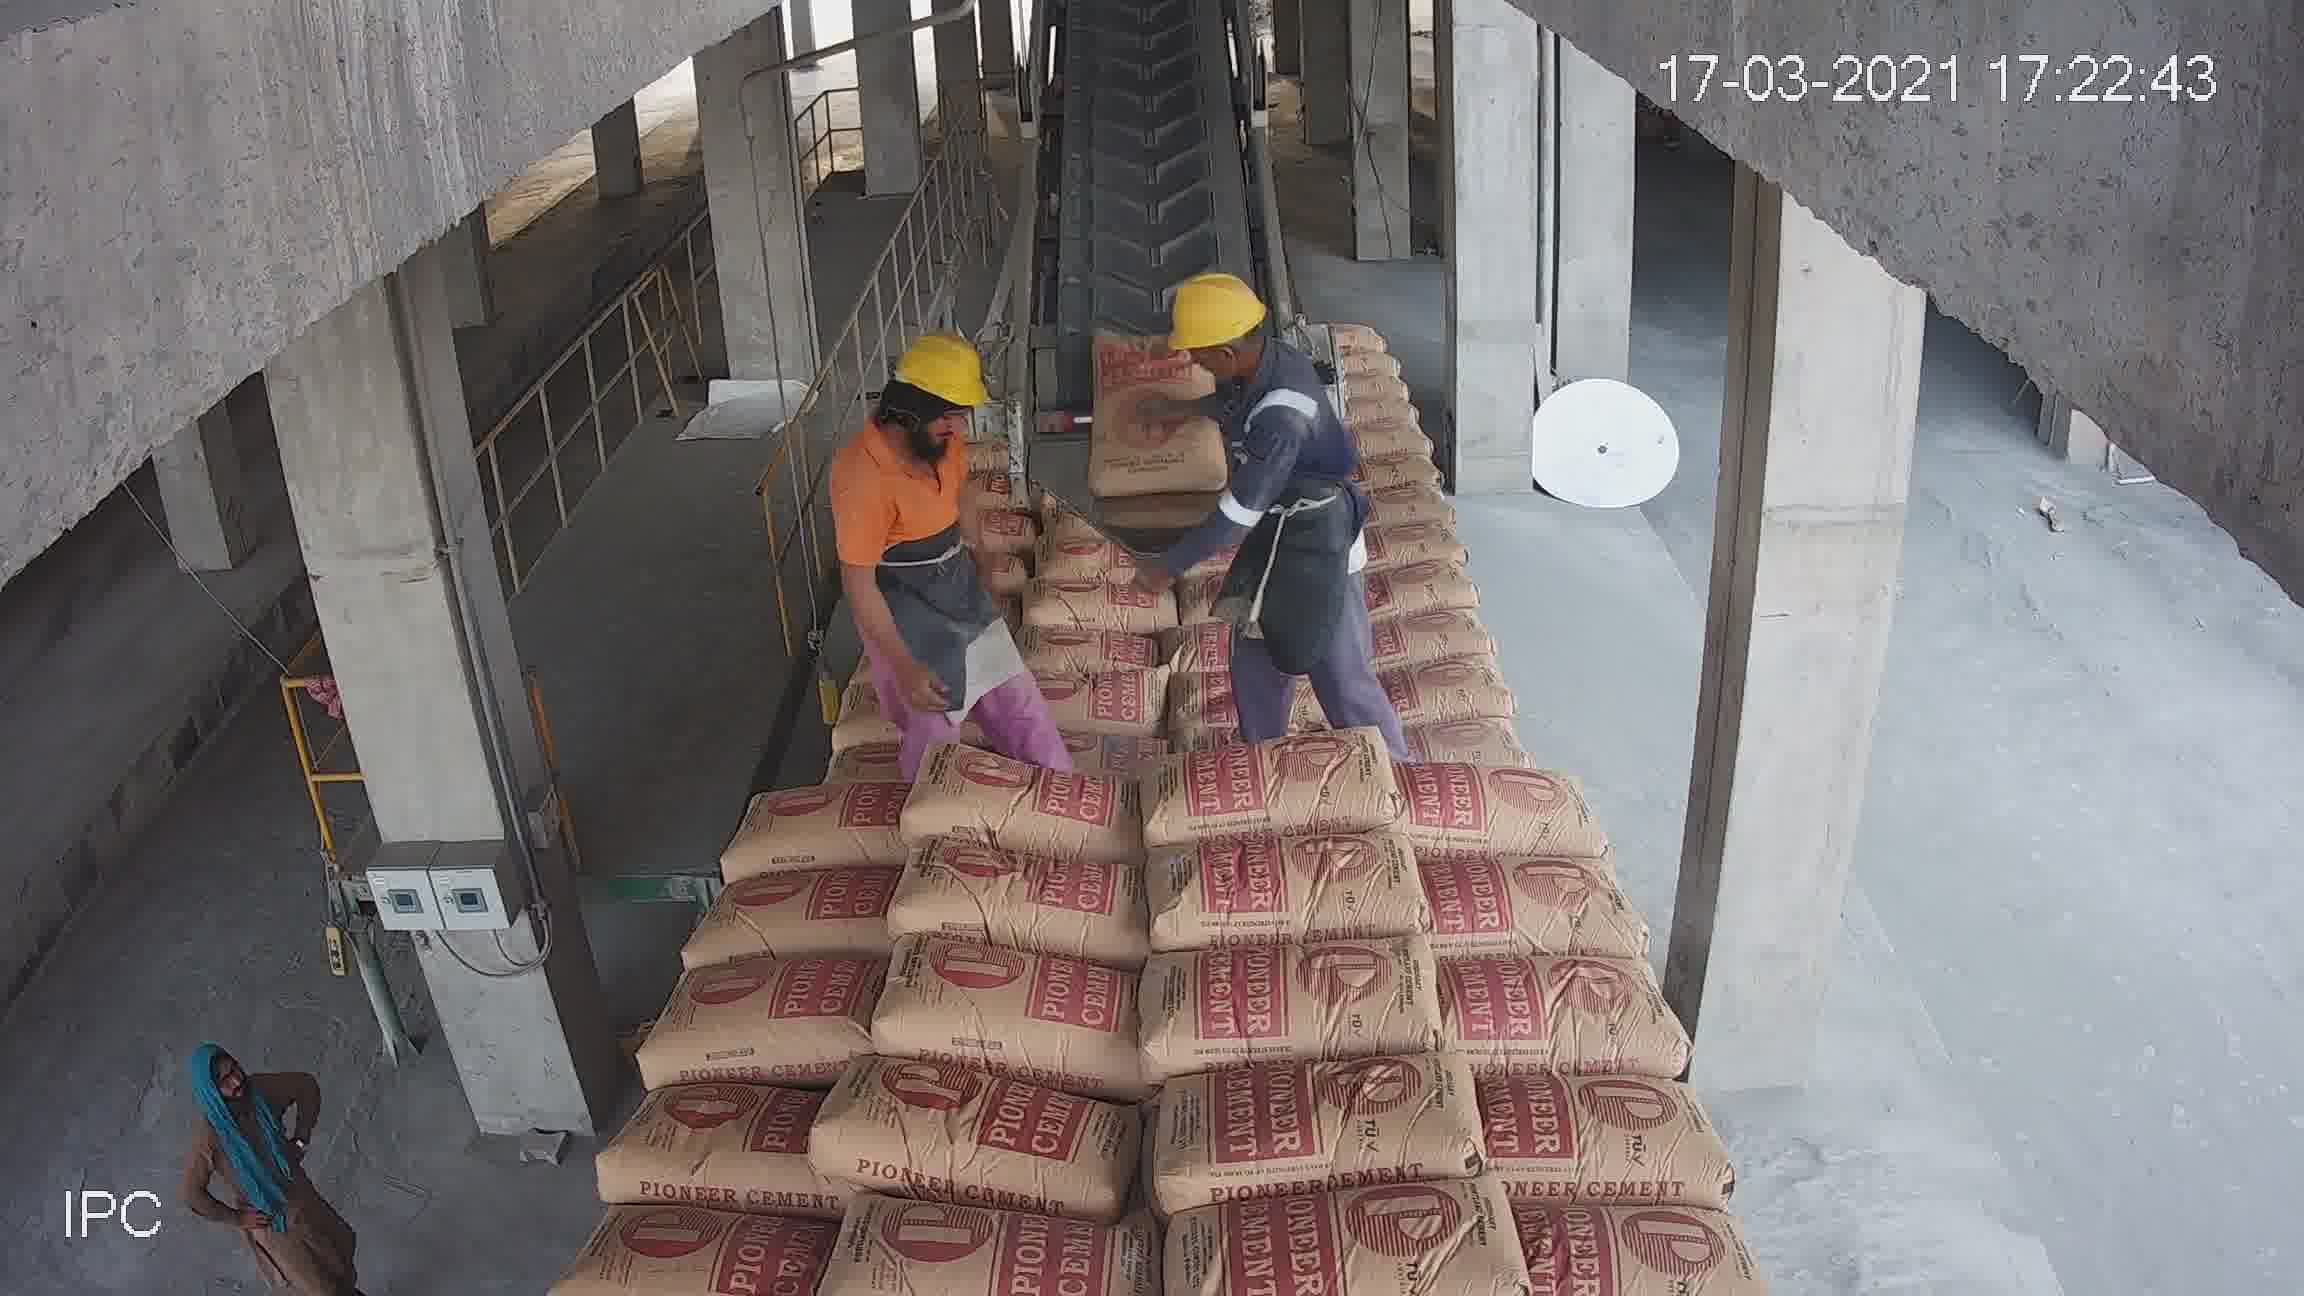bag: (1095, 215, 1222, 373)
bag_h: (1158, 1048, 1487, 1230), (1147, 915, 1451, 1071), (813, 1071, 1157, 1196), (1152, 1174, 1495, 1296), (1141, 824, 1421, 956), (805, 1192, 1158, 1293), (1473, 1054, 1715, 1199), (870, 946, 1154, 1070), (1423, 940, 1684, 1073), (873, 843, 1149, 954), (1112, 737, 1388, 845), (597, 1074, 812, 1204), (684, 858, 926, 970), (661, 953, 873, 1081), (1155, 571, 1377, 684), (1510, 1190, 1737, 1293), (557, 1209, 831, 1294), (1147, 668, 1370, 766), (904, 761, 1144, 851), (1412, 756, 1612, 855), (929, 688, 1165, 764), (744, 704, 924, 801), (1442, 851, 1622, 948), (772, 627, 956, 718), (1370, 688, 1575, 769), (967, 606, 1185, 680), (734, 790, 904, 877), (1369, 600, 1524, 684), (1074, 521, 1166, 582)
belt: (1021, 19, 1264, 457)
